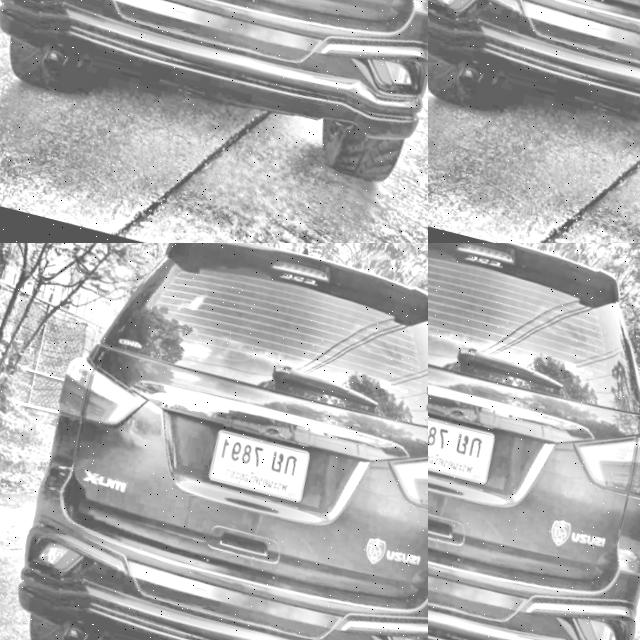license-plate: (428, 398, 500, 493)
